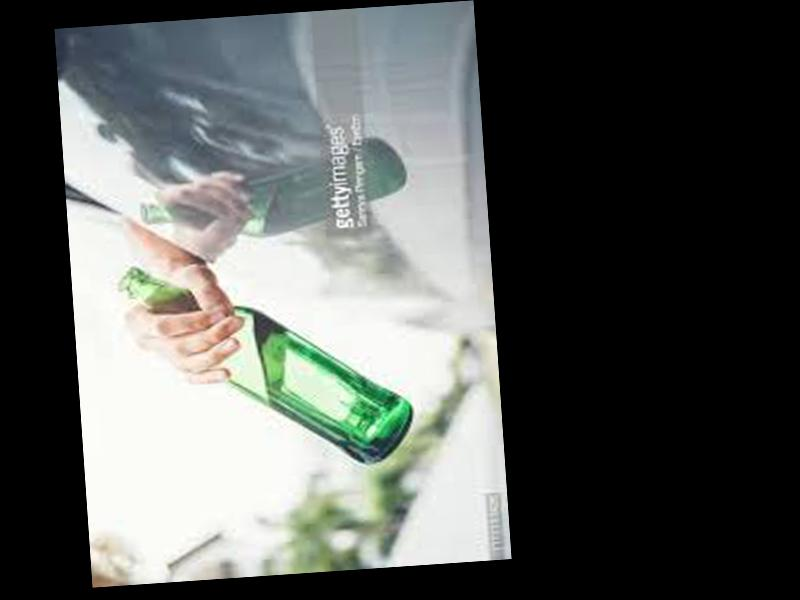Beer: (119, 245, 417, 478)
